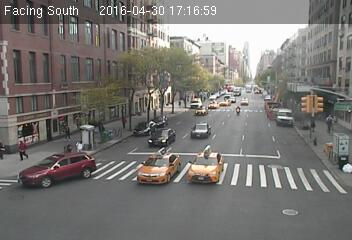neg: (50, 60, 68, 85), (192, 144, 209, 166), (292, 115, 308, 137), (304, 90, 320, 111), (135, 97, 151, 118), (324, 46, 339, 66), (270, 196, 285, 216), (9, 168, 24, 188), (35, 171, 49, 190), (25, 118, 39, 136), (77, 30, 90, 47), (44, 105, 56, 121), (318, 60, 329, 75)
pos: (13, 137, 30, 161), (323, 114, 339, 135), (93, 119, 109, 139), (73, 140, 88, 161), (62, 144, 76, 161), (61, 124, 73, 140), (118, 116, 129, 131)
